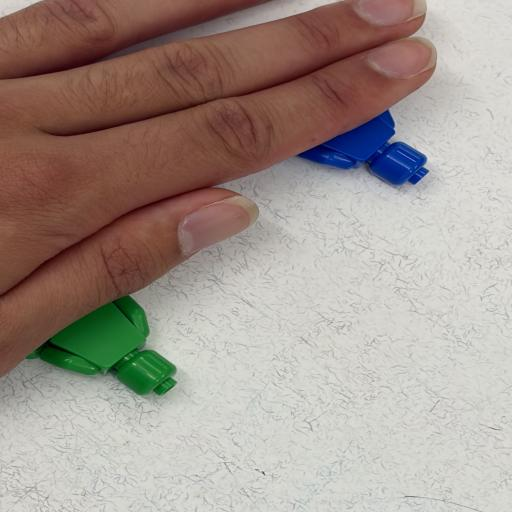Blue-Lego: (298, 110, 429, 186)
Green-Lego: (26, 296, 177, 396)
